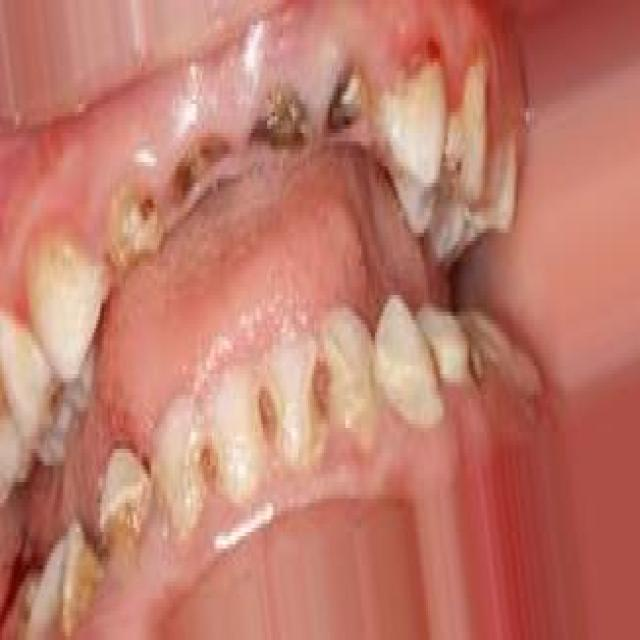caries: (100, 443, 157, 578), (414, 133, 473, 260), (30, 348, 87, 478), (250, 73, 316, 175), (294, 330, 344, 460), (171, 122, 231, 229), (104, 187, 166, 287), (242, 362, 294, 474), (181, 411, 235, 514), (324, 50, 372, 162), (59, 523, 103, 640), (450, 317, 493, 405)
